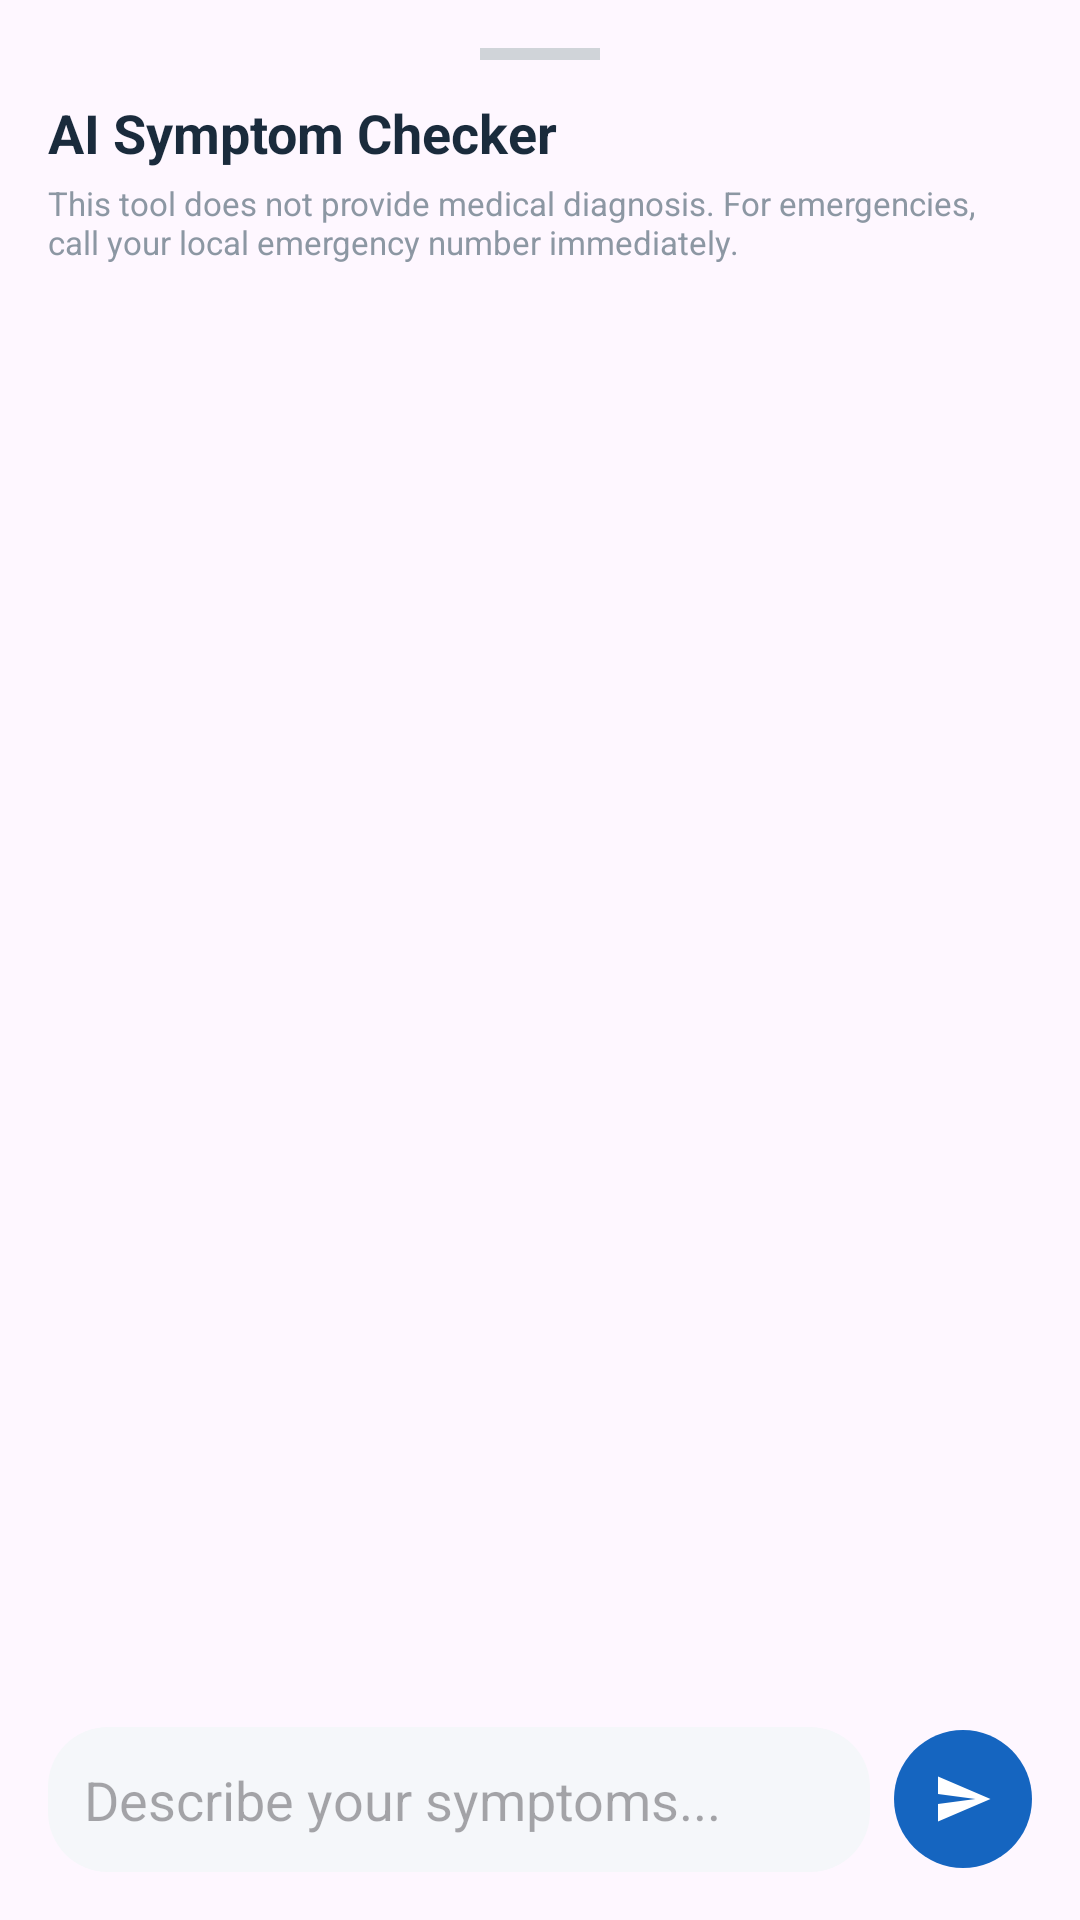

Where to tap for icons on this 1080×1920 app screen, as (x,y):
Send: (963,1799)
